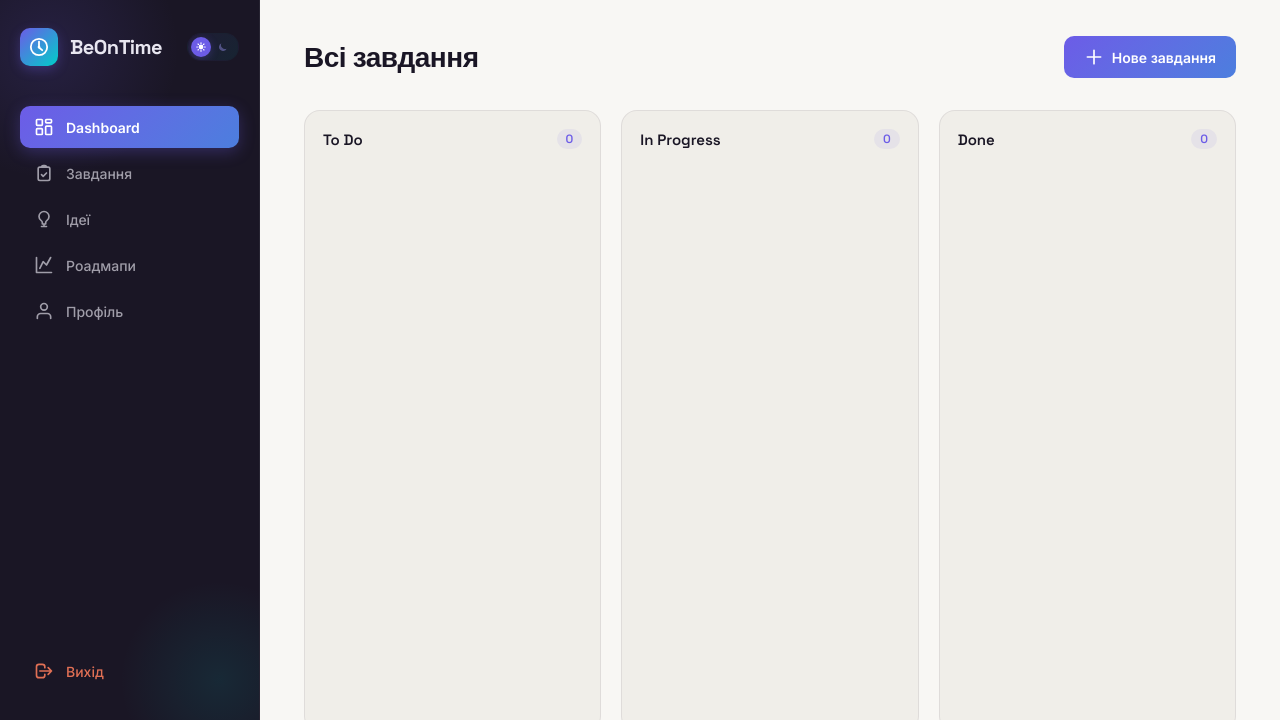
Test: TasksPage Component › повинен відкривати модальне вікно при кліку на "Нове завдання"
The image size is (1280, 720).
Click the button "Нове завдання".
click(1150, 57)  # box [1064, 36, 1236, 78]
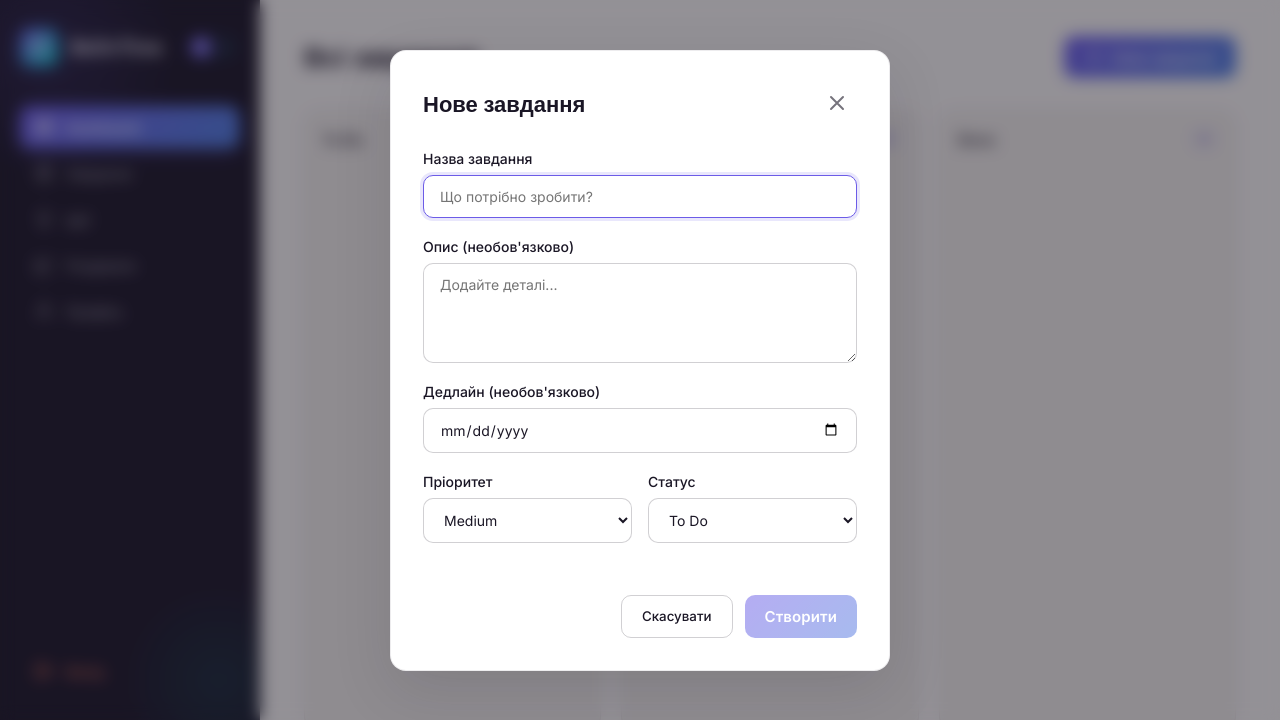
Check: the heading "Нове завдання" is shown, box [423, 90, 585, 118]
Check: the field labelled "Назва завдання" is shown, box [423, 174, 857, 218]
